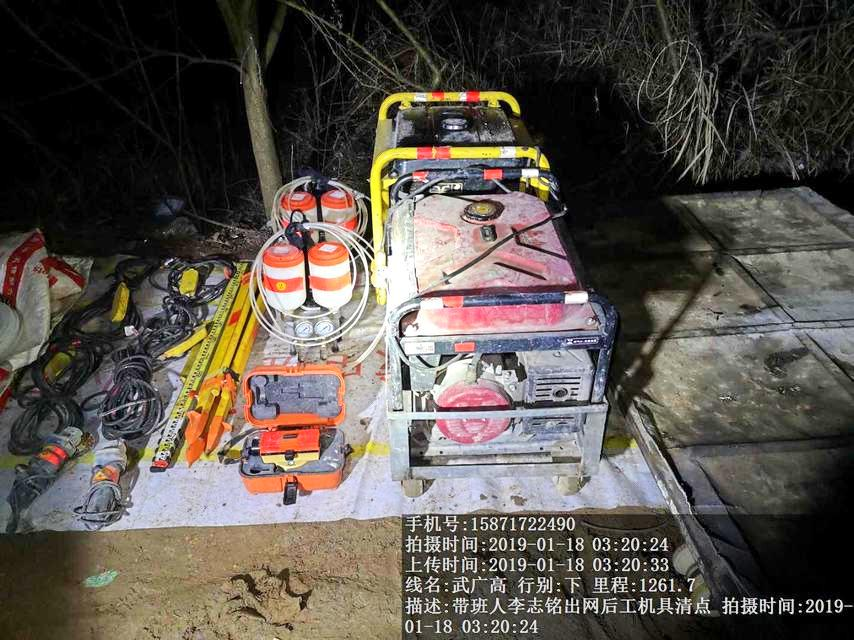DJ: (378, 187, 613, 496), (366, 89, 576, 188)
DMJ: (12, 423, 88, 503), (87, 439, 136, 527)
DX: (101, 338, 160, 434)
